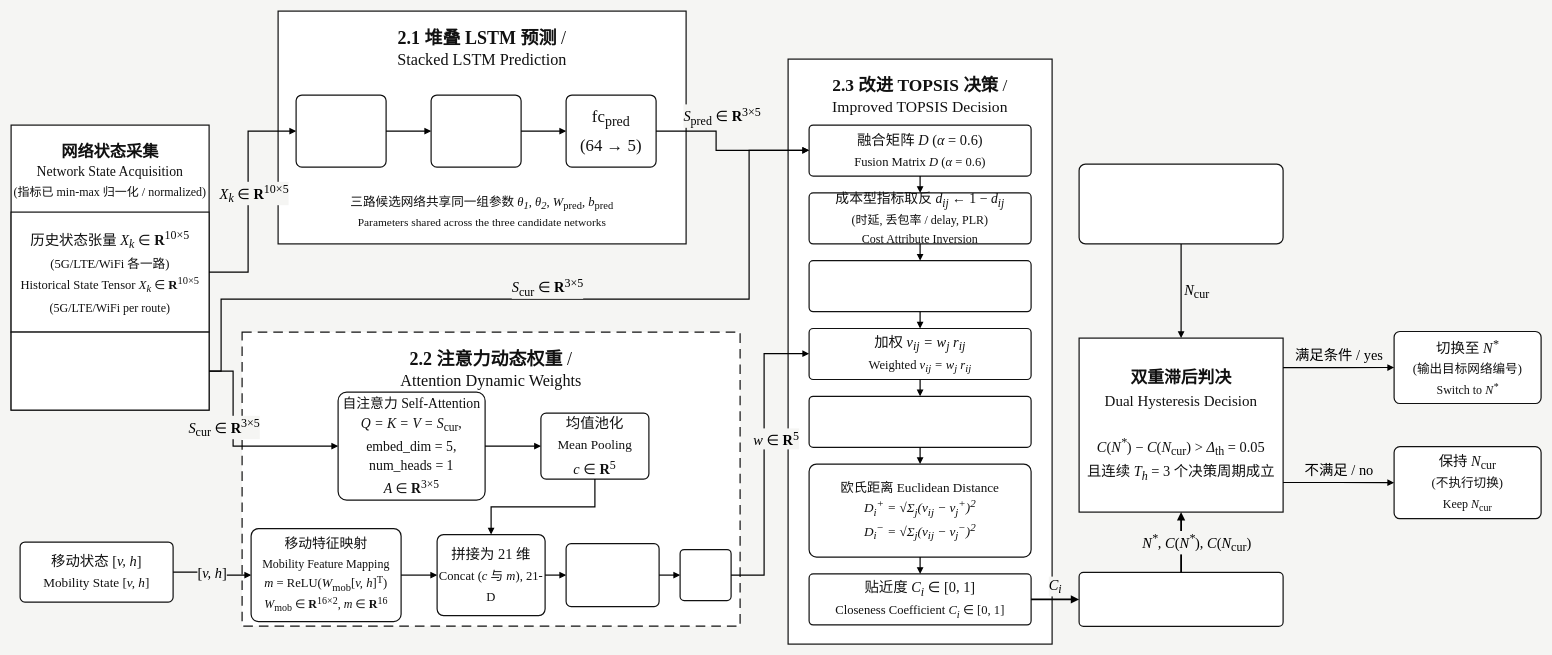
This 1552x655 diagram has some shape labels left out. Here are the shapes that lost their labels. From the top down, the centre of each, then its label:
point (340, 130): LSTM 1 (5 → 128)
point (475, 130): LSTM 2 (128 → 64)
point (1180, 203): 当前服务网络 N cur Current Serving Network N cur
point (919, 286): 向量归一化 r ij Vector Normalization r ij
point (109, 370): 当前状态矩阵 S cur ∈ R 3×5 Current State Matrix S cur ∈ R 3×5
point (919, 421): 正/负理想解 v j + , v j − Positive/Negative Ideal Solutions
point (612, 575): W weight R 21 → R 5 Linear Layer
point (705, 575): softmax
point (1180, 599): 候选排序 N * = arg max i C i Candidate Ranking
